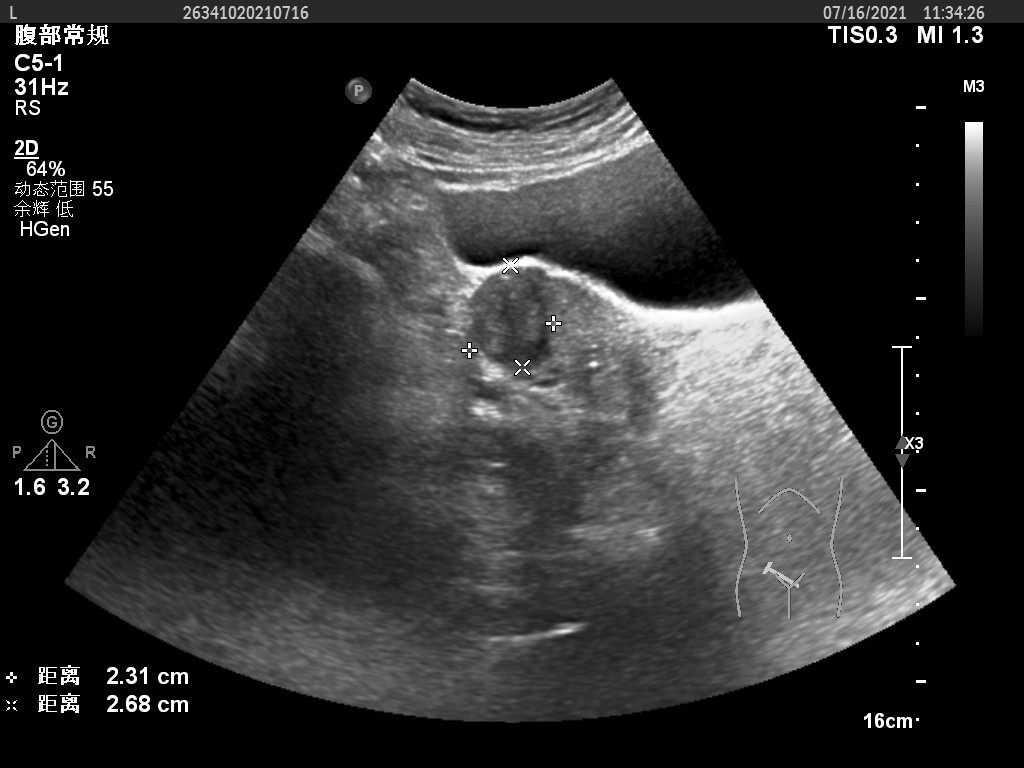肌瘤: (468, 266, 555, 370)
